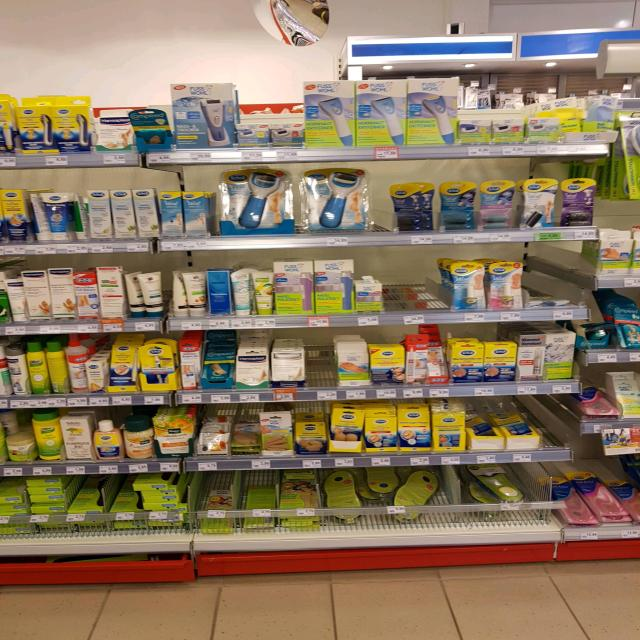void: (530, 238, 578, 321), (392, 242, 438, 320), (544, 399, 572, 458), (309, 330, 332, 399)
